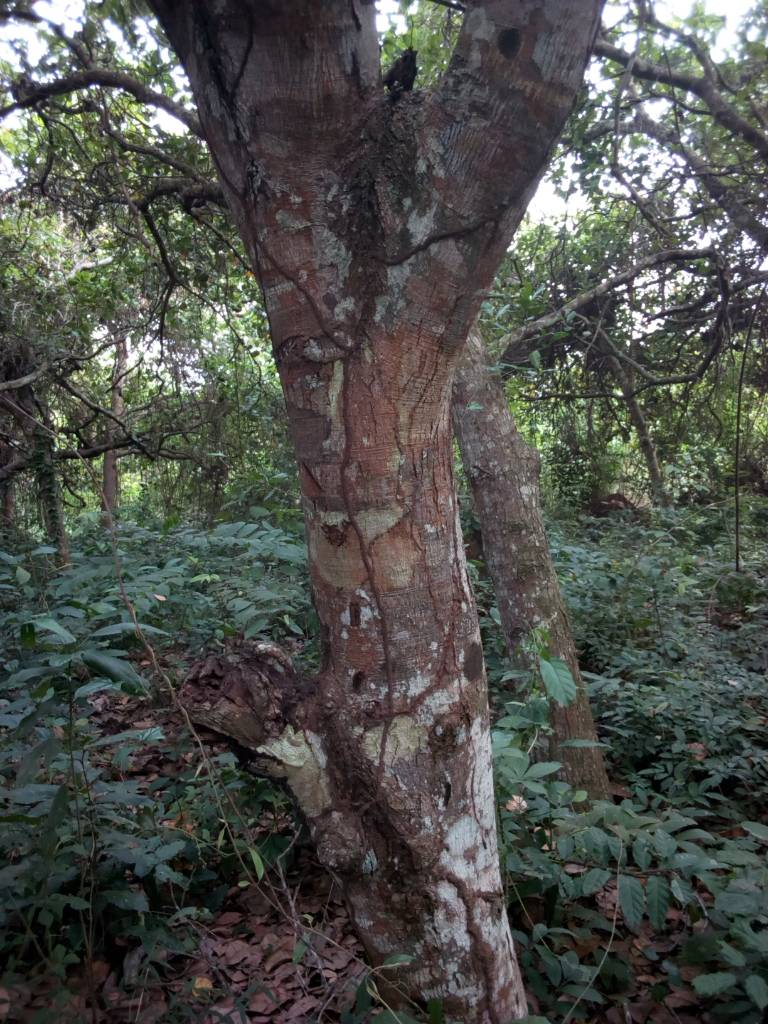Termites: (336, 342, 394, 830), (444, 867, 511, 1017), (379, 202, 533, 266)
